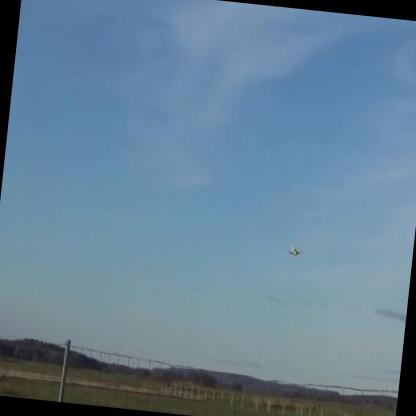plane: (287, 244, 304, 258)
